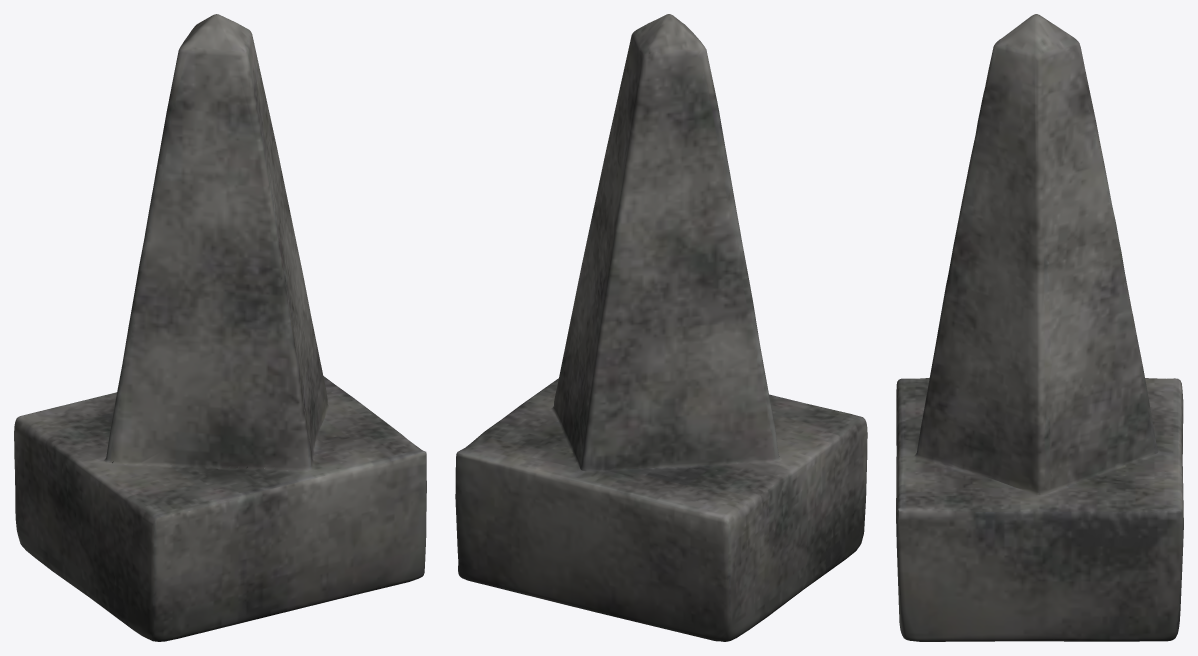
Rendered from worn-granite-obelisk-v001.glb.
3 renders of one model, left to right at view 1: azimuth 30°, elevation 25°; view 2: azimuth 150°, elevation 25°; view 3: azimuth 270°, elevation 25°, orthographic.
Parts seen in each view (by area): view 1: worn-granite-obelisk; view 2: worn-granite-obelisk; view 3: worn-granite-obelisk.
Part boxes in pixels (bbox=[...]): worn-granite-obelisk: bbox=[14, 14, 426, 641]; worn-granite-obelisk: bbox=[455, 14, 867, 641]; worn-granite-obelisk: bbox=[896, 14, 1183, 641].
Size of the model in its own units: 1.04 by 1.98 by 0.925.
1 material, 1 textured.
